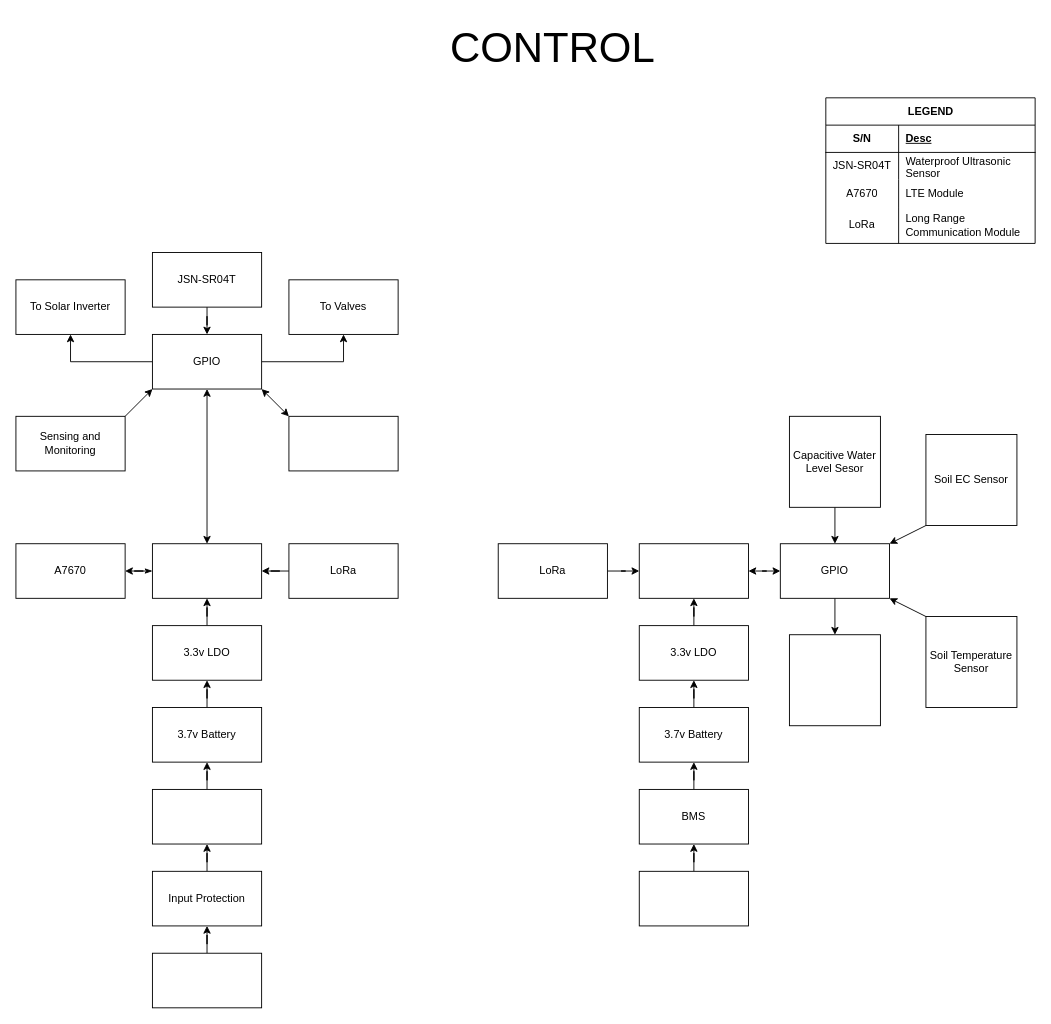
The diagram is 1051 pixels wide and 1024 high, and some of its shapes have lost their labels. The shapes that lost their labels are listed below. From the top down, each one's centre as x and y in pixels, then its label:
point (343, 443): OLED Display, I/O Buttons, Indicators
point (207, 570): ESP32-S3
point (693, 570): ESP32-C3-MIni
point (834, 680): Indicators
point (207, 816): 5v 2A SMPS
point (693, 898): 5v Solar Panel
point (207, 980): Buck Converter (>220v - 5v)
